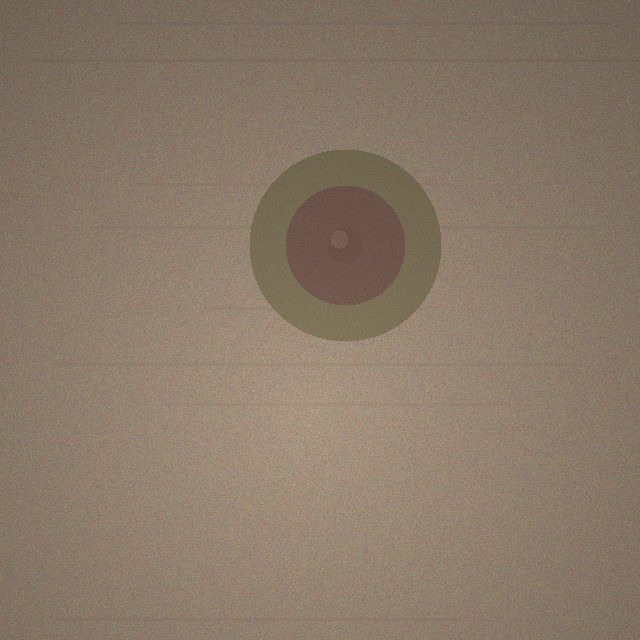good: (249, 149, 441, 341)
